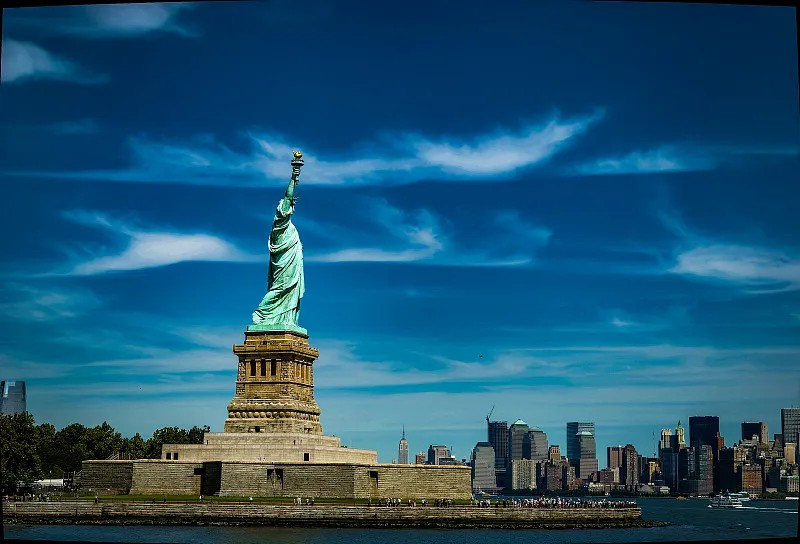SL: (223, 151, 322, 435)
